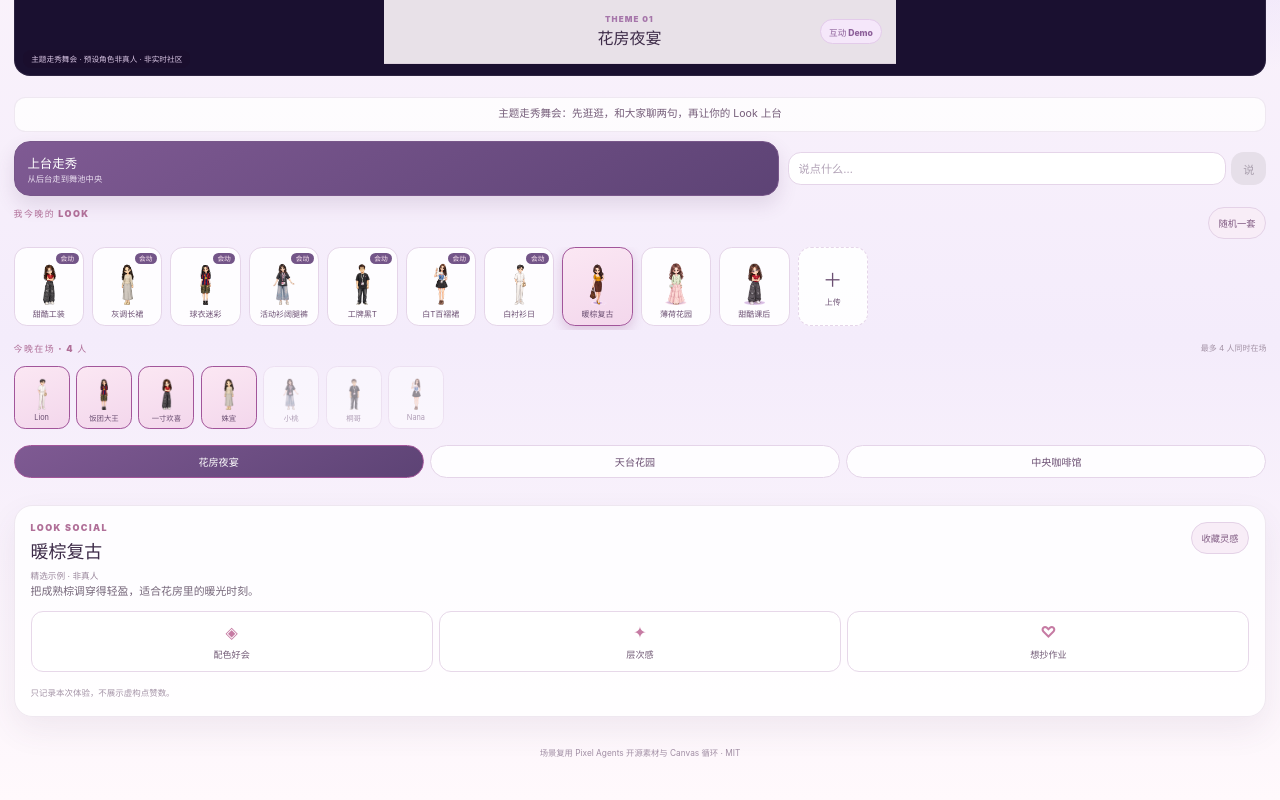
Test: CommunityScreen › switches location and reports where the party moved to
(page scrolled)
Step 1. Click the button "天台花园" → (635, 461), box [430, 445, 840, 478]
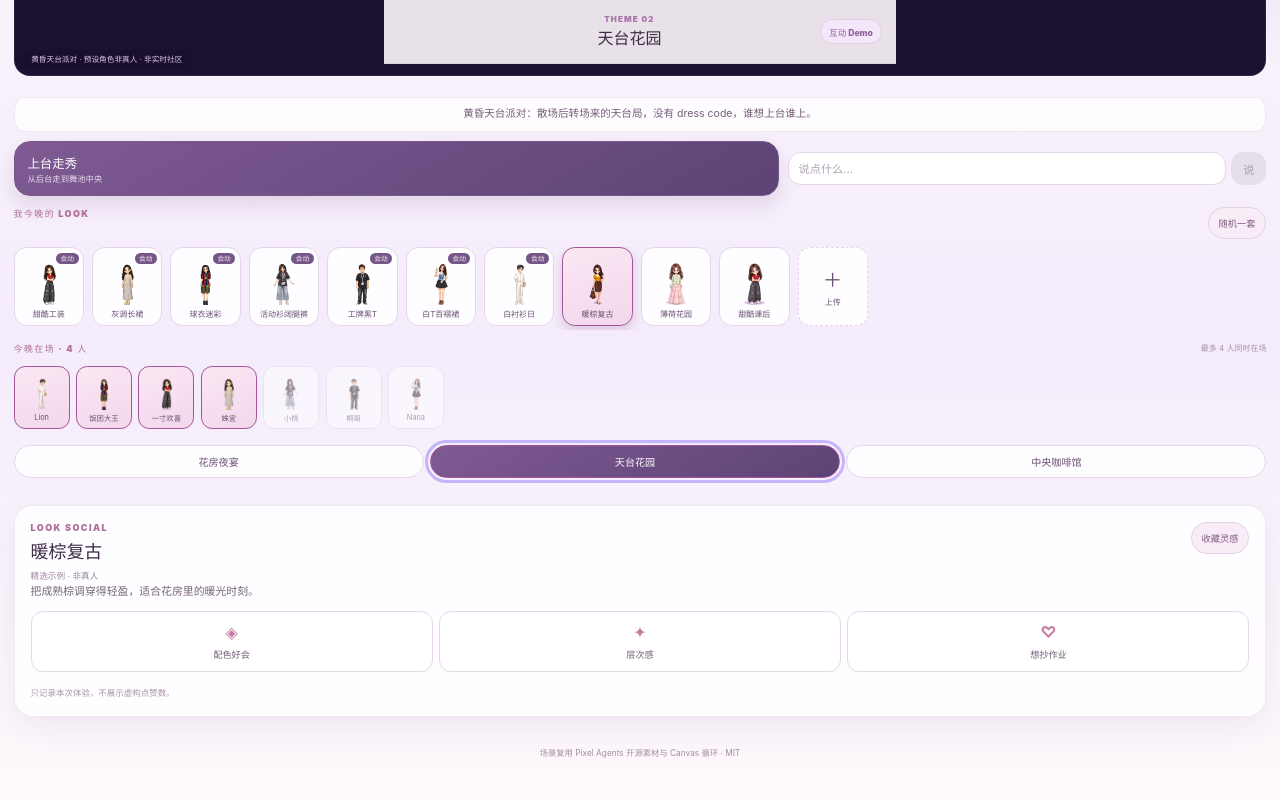
Check: the message shows "黄昏天台派对", box [463, 106, 817, 120]
